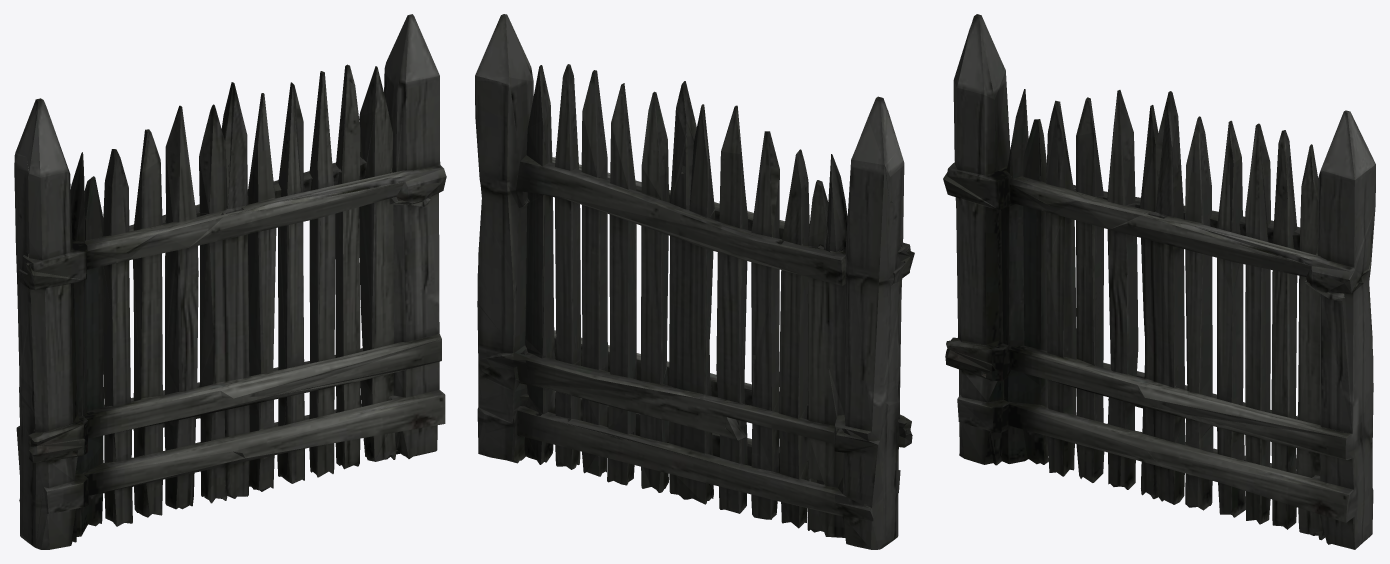
File: bog_barricade_01.glb
3 renders of one model, left to right at view 1: azimuth 30°, elevation 25°; view 2: azimuth 150°, elevation 25°; view 3: azimuth 330°, elevation 25°, orthographic.
Visible parts, largest first — view 1: geometry_0; view 2: geometry_0; view 3: geometry_0.
Part boxes in pixels (x1,y1,x2,y2): geometry_0: (14, 14, 446, 549); geometry_0: (475, 14, 914, 549); geometry_0: (943, 14, 1375, 549).
Size of the model in its own units: 0.974 by 0.9989 by 0.1257.
1 material, 1 textured.
